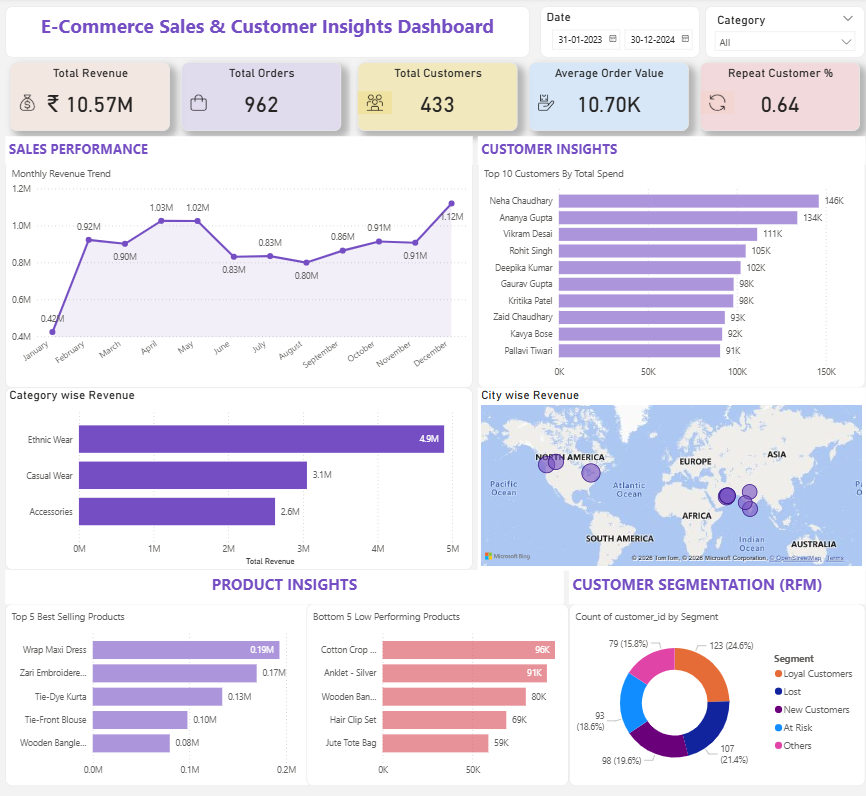

Layout of this report page (visuals, bound fields, positions):
{"tool":"powerbi","page":{"name":"Sales & Customer Insights","canvas":[1222,1125],"ordinal":0},"visuals":[{"type":"card","title":"Total Customers","fields":{"Values":["Customers.Total_Customers"]},"box":[504,88,224,96],"z":0},{"type":"card","title":"Total Revenue","fields":{"Values":["Order_Items.Total_Revenue"]},"box":[16,88,224,96],"z":1000},{"type":"card","title":"Total Orders","fields":{"Values":["Orders.Total_Orders"]},"box":[256,88,224,96],"z":2000},{"type":"card","title":"Average Order Value","fields":{"Values":["Orders.AOV"]},"box":[744,88,224,96],"z":3000},{"type":"card","title":"Repeat Customer %","fields":{"Values":["Orders.RepeatCustomerPct"]},"box":[984,88,224,96],"z":4000},{"type":"lineChart","fields":{"Y":["Order_Items.Total_Revenue"],"Category":["Orders.order_date.Variation.Date Hierarchy.Month"]},"box":[8,224,656,320],"z":5000},{"type":"clusteredBarChart","title":"Category wise Revenue","fields":{"Category":["Products.category"],"Y":["Order_Items.Total_Revenue"]},"box":[8,544,656,256],"z":6000},{"type":"barChart","fields":{"Category":["Products.product_name"],"Y":["Order_Items.Total_Revenue"]},"box":[8,848,432,256],"z":7000},{"type":"barChart","fields":{"Category":["Products.product_name"],"Y":["Order_Items.Total_Revenue"]},"box":[432,848,368,256],"z":8000},{"type":"textbox","box":[8,8,736,72],"z":9000},{"type":"slicer","title":"Date","fields":{"Values":["Orders.order_date"]},"box":[760,8,224,72],"z":10000},{"type":"slicer","fields":{"Values":["Products.category"]},"box":[992,8,224,72],"z":11000},{"type":"textbox","box":[8,800,784,48],"z":12000},{"type":"barChart","fields":{"Category":["Customers.name"],"Y":["Order_Items.Total_Revenue"]},"box":[672,224,544,320],"z":13000},{"type":"map","title":"City wise Revenue","fields":{"Category":["Customers.city"],"Size":["Order_Items.Total_Revenue"]},"box":[672,544,544,256],"z":14000},{"type":"textbox","box":[8,192,656,40],"z":15000},{"type":"textbox","box":[672,192,544,40],"z":16000},{"type":"image","box":[16,128,48,32],"z":17000},{"type":"image","box":[256,128,48,32],"z":18000},{"type":"image","box":[504,128,48,32],"z":19000},{"type":"image","box":[744,128,48,32],"z":20000},{"type":"image","box":[984,128,48,32],"z":21000},{"type":"donutChart","fields":{"Category":["Customers.Segment"],"Y":["CountNonNull(Customers.customer_id)"]},"box":[800,848,416,256],"z":22000},{"type":"textbox","box":[800,800,416,48],"z":23000}]}

Visuals, with their boxes in screenshot pixels (x1, y1, x2, y2), scaled from the page's 1222x1125 canvas onto the 866x796 screenshot:
"Total Customers" card: [x1=357, y1=62, x2=516, y2=130]
"Total Revenue" card: [x1=11, y1=62, x2=170, y2=130]
"Total Orders" card: [x1=181, y1=62, x2=340, y2=130]
"Average Order Value" card: [x1=527, y1=62, x2=686, y2=130]
"Repeat Customer %" card: [x1=697, y1=62, x2=856, y2=130]
lineChart - Order_Items.Total_Revenue x Orders.order_date.Variation.Date Hierarchy.Month: [x1=6, y1=158, x2=471, y2=385]
"Category wise Revenue" clusteredBarChart: [x1=6, y1=385, x2=471, y2=566]
barChart - Products.product_name x Order_Items.Total_Revenue: [x1=6, y1=600, x2=312, y2=781]
barChart - Products.product_name x Order_Items.Total_Revenue: [x1=306, y1=600, x2=567, y2=781]
textbox: [x1=6, y1=6, x2=527, y2=57]
"Date" slicer: [x1=539, y1=6, x2=697, y2=57]
slicer - Products.category: [x1=703, y1=6, x2=862, y2=57]
textbox: [x1=6, y1=566, x2=561, y2=600]
barChart - Customers.name x Order_Items.Total_Revenue: [x1=476, y1=158, x2=862, y2=385]
"City wise Revenue" map: [x1=476, y1=385, x2=862, y2=566]
textbox: [x1=6, y1=136, x2=471, y2=164]
textbox: [x1=476, y1=136, x2=862, y2=164]
image: [x1=11, y1=91, x2=45, y2=113]
image: [x1=181, y1=91, x2=215, y2=113]
image: [x1=357, y1=91, x2=391, y2=113]
image: [x1=527, y1=91, x2=561, y2=113]
image: [x1=697, y1=91, x2=731, y2=113]
donutChart - Customers.Segment x CountNonNull(Customers.customer_id): [x1=567, y1=600, x2=862, y2=781]
textbox: [x1=567, y1=566, x2=862, y2=600]
